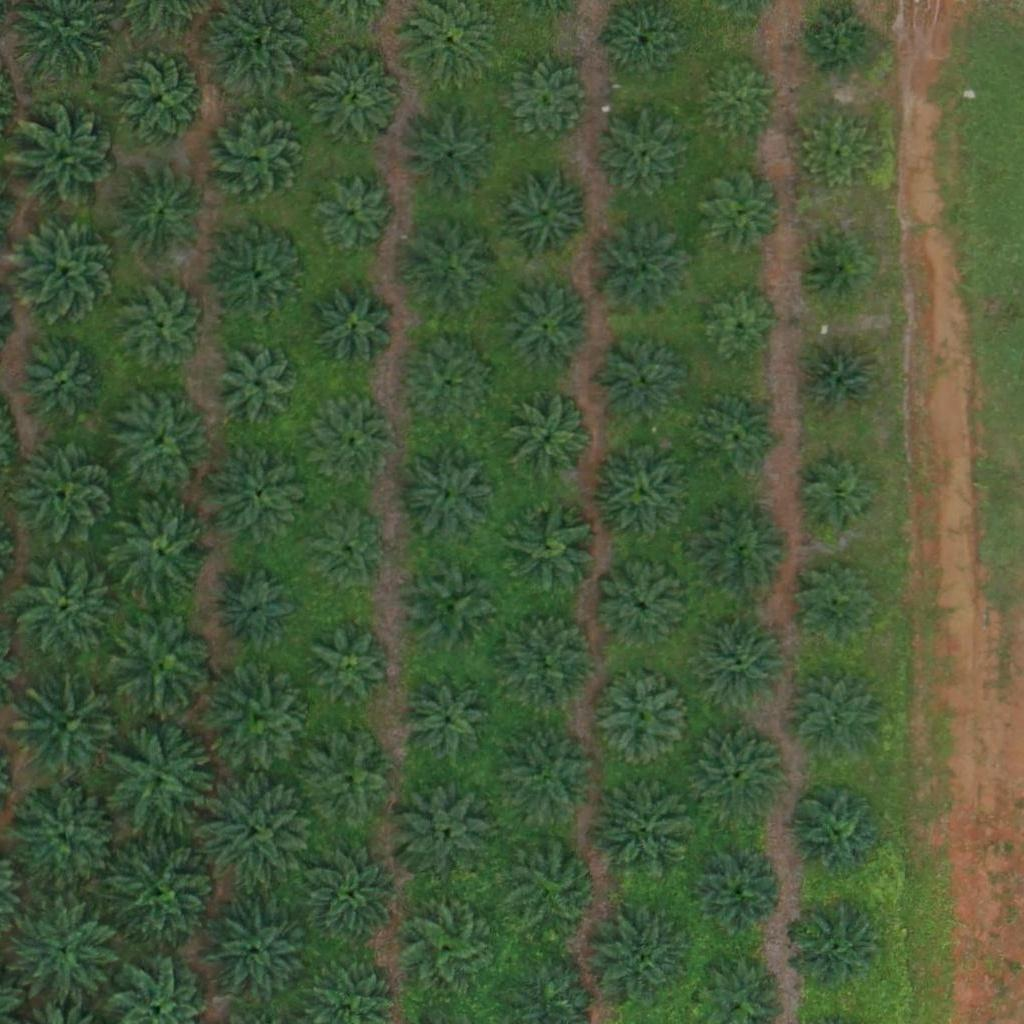Kelapa_Sawit: (8, 103, 121, 216), (10, 213, 123, 326), (102, 723, 215, 836), (200, 775, 313, 888), (203, 895, 316, 1008), (9, 549, 121, 662), (16, 676, 128, 789), (9, 782, 121, 895), (9, 901, 121, 1014), (109, 841, 221, 954), (588, 221, 688, 322), (493, 52, 593, 153), (493, 162, 593, 263), (399, 102, 499, 203), (212, 443, 312, 544), (110, 162, 210, 263), (111, 390, 211, 491), (111, 507, 211, 608), (15, 444, 115, 545), (402, 555, 502, 656), (497, 608, 597, 709), (502, 729, 602, 830), (593, 668, 693, 769), (592, 779, 692, 880), (593, 912, 693, 1013), (695, 613, 795, 714), (688, 724, 788, 825), (787, 783, 887, 884), (691, 502, 791, 602), (591, 441, 691, 541), (497, 498, 597, 598), (402, 218, 502, 318), (397, 445, 497, 545), (307, 46, 407, 146), (206, 108, 306, 208), (210, 224, 310, 324), (110, 49, 210, 149), (112, 611, 212, 711), (210, 671, 310, 771), (298, 729, 398, 829), (396, 777, 496, 877), (505, 838, 605, 938), (599, 564, 687, 653), (793, 457, 881, 545), (696, 394, 784, 482), (598, 113, 686, 201), (597, 338, 685, 426), (310, 175, 398, 263), (19, 339, 107, 427), (404, 678, 492, 766), (403, 900, 491, 988), (693, 848, 781, 936), (795, 904, 883, 992), (694, 166, 781, 254), (797, 338, 884, 426), (502, 286, 589, 374), (505, 397, 592, 485), (405, 346, 492, 434), (217, 338, 304, 426), (119, 282, 206, 370), (310, 849, 397, 937), (793, 558, 880, 646), (793, 673, 880, 761), (319, 292, 394, 368), (317, 403, 392, 479), (220, 573, 295, 649), (314, 626, 389, 702), (705, 292, 780, 367), (797, 113, 872, 188), (804, 5, 879, 80), (699, 61, 774, 136), (309, 518, 384, 593), (802, 236, 865, 299)
